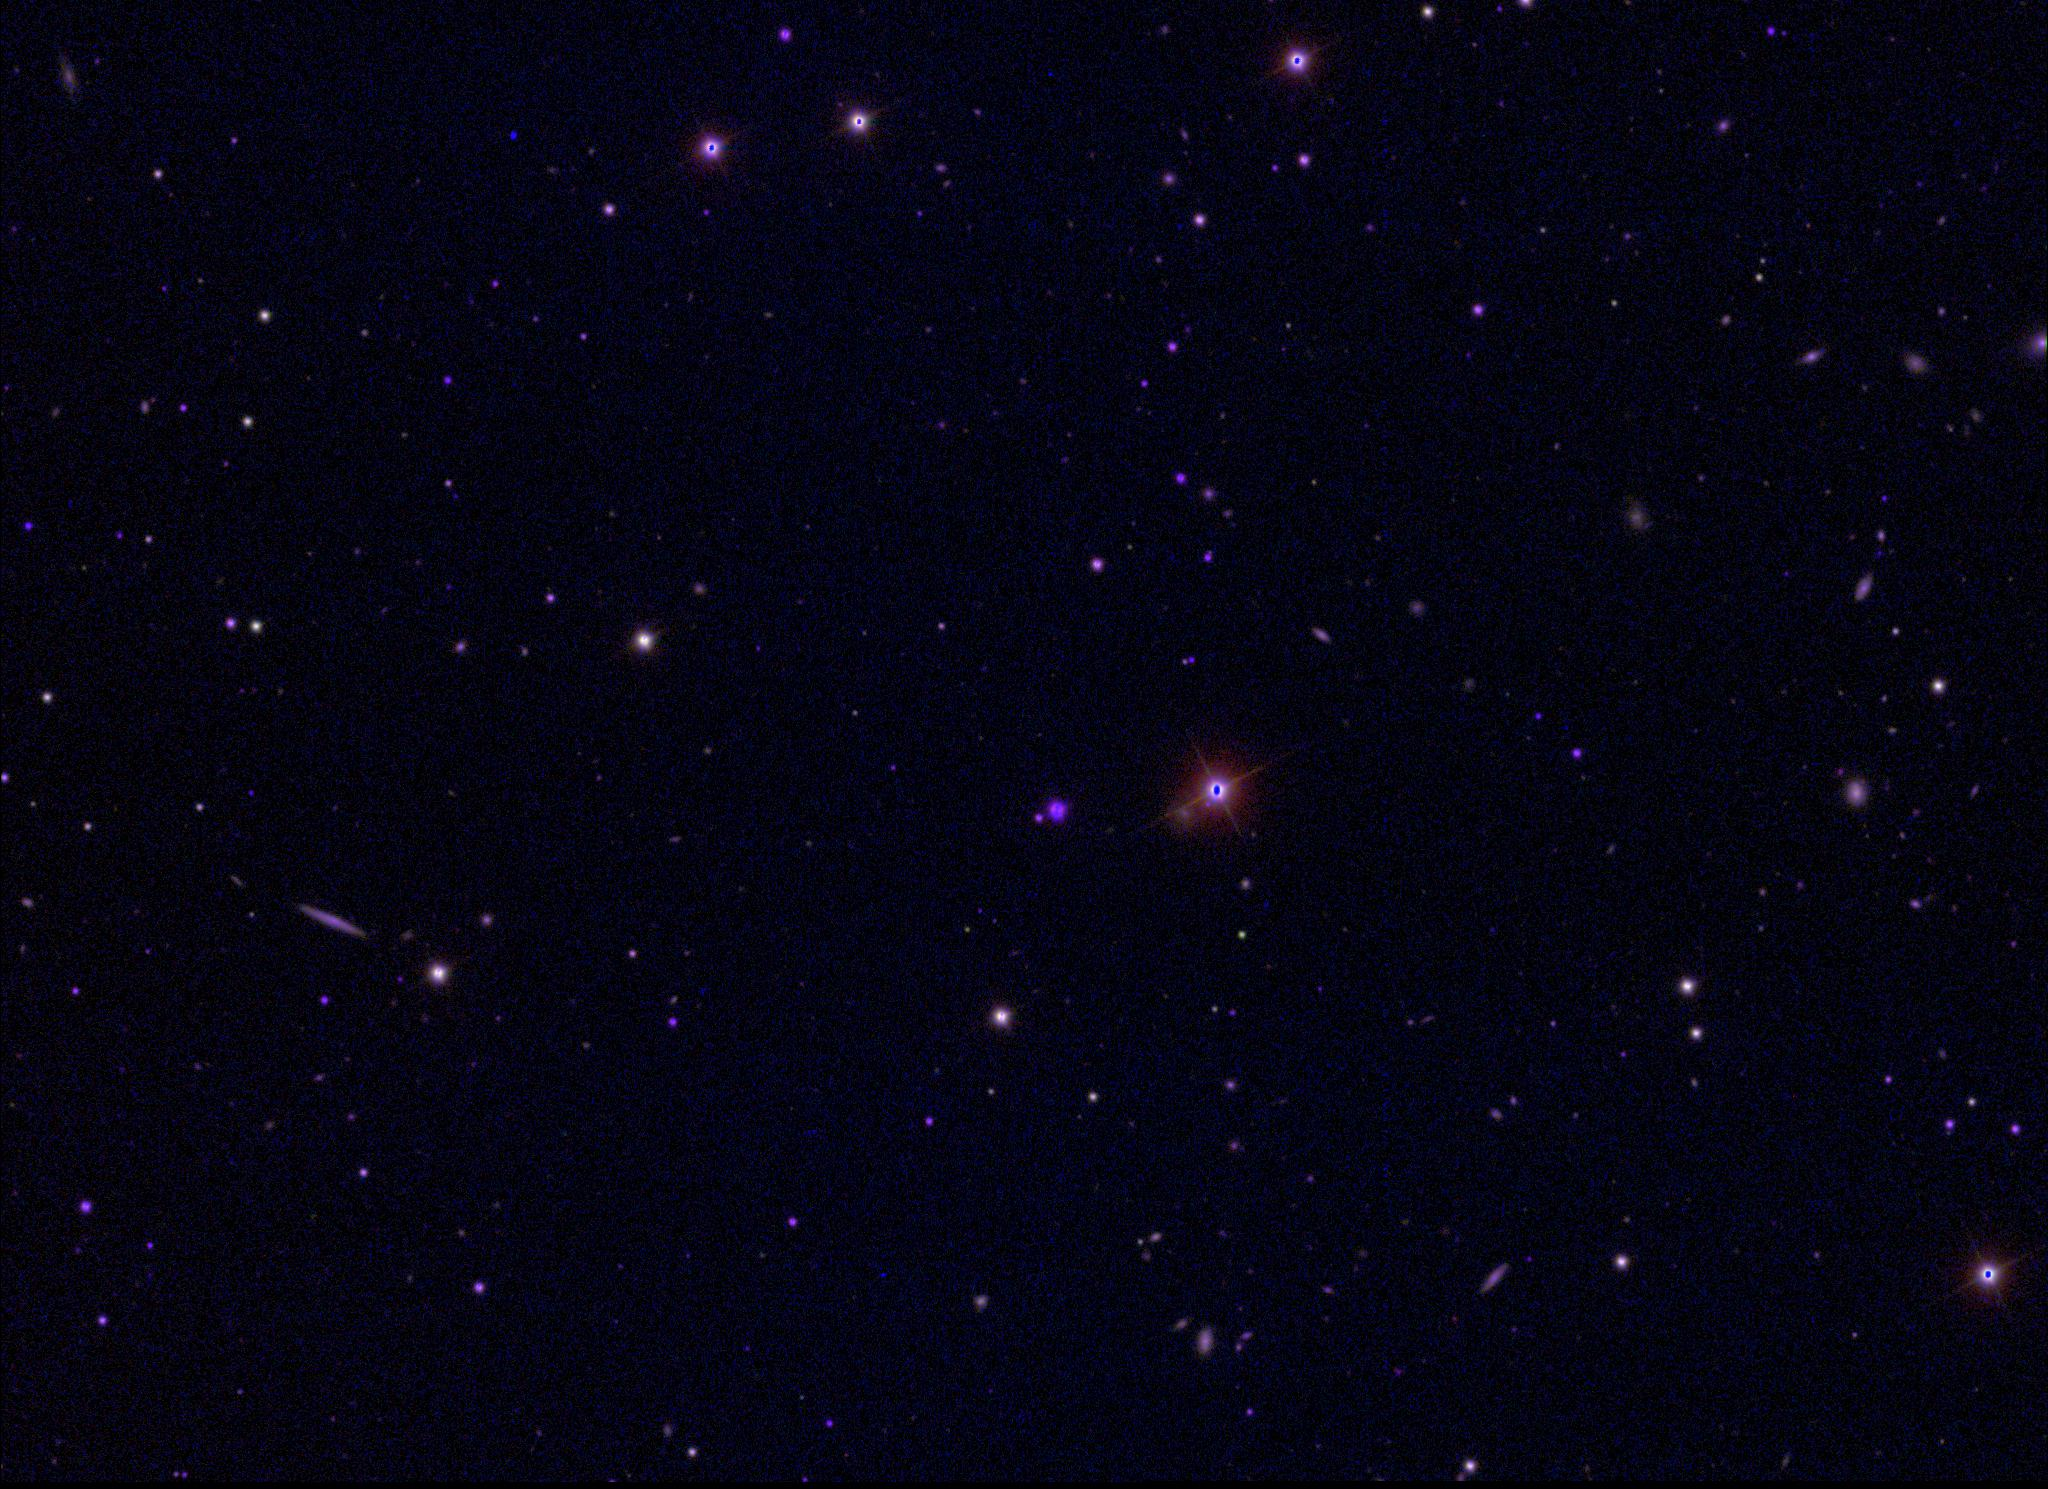L: (507, 129, 522, 143)
